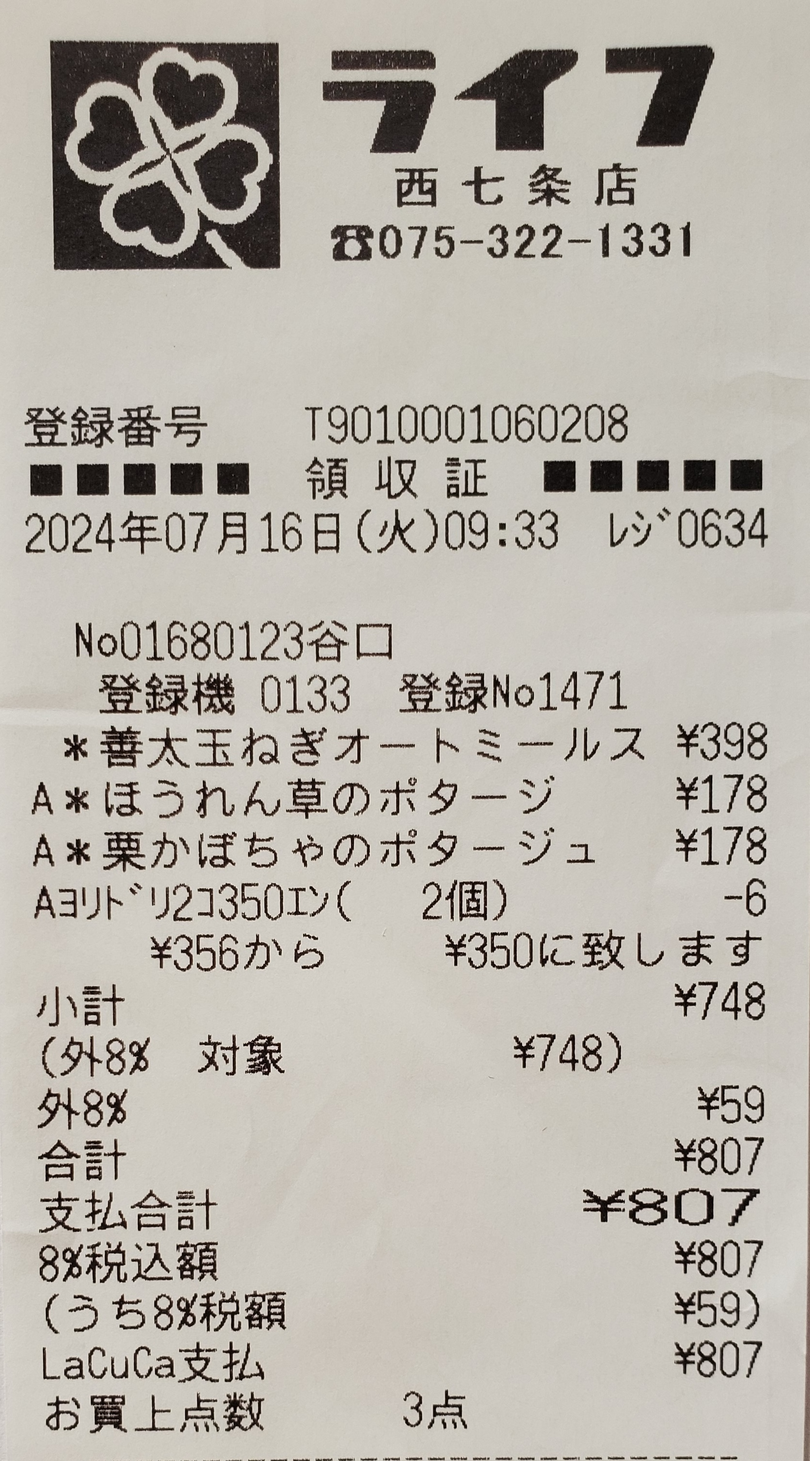Date: (20, 504, 349, 567)
Shopname: (317, 16, 755, 165)
Telnum: (374, 210, 709, 274)
Totalpay: (35, 1184, 776, 1240)
